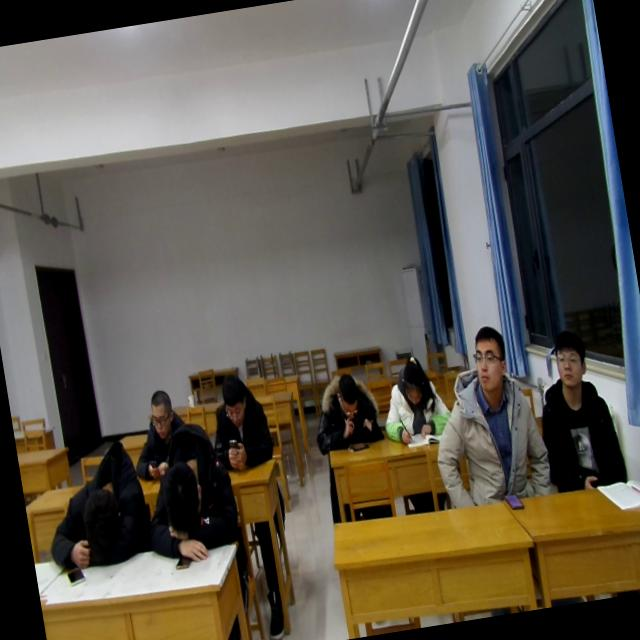bow: (134, 425, 246, 571), (33, 443, 154, 578)
down: (214, 366, 254, 434), (144, 384, 177, 444), (394, 354, 428, 411), (332, 368, 366, 424)
lookup: (466, 320, 514, 394), (546, 321, 592, 397)
sit: (416, 322, 555, 510), (528, 323, 626, 490), (205, 364, 278, 476), (372, 355, 454, 446), (129, 378, 199, 482), (306, 366, 386, 453)
